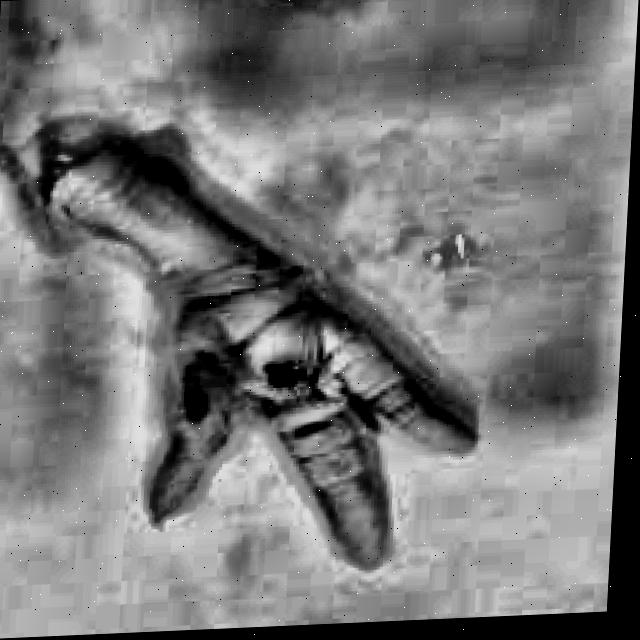Bumble foot: (26, 128, 495, 591)
